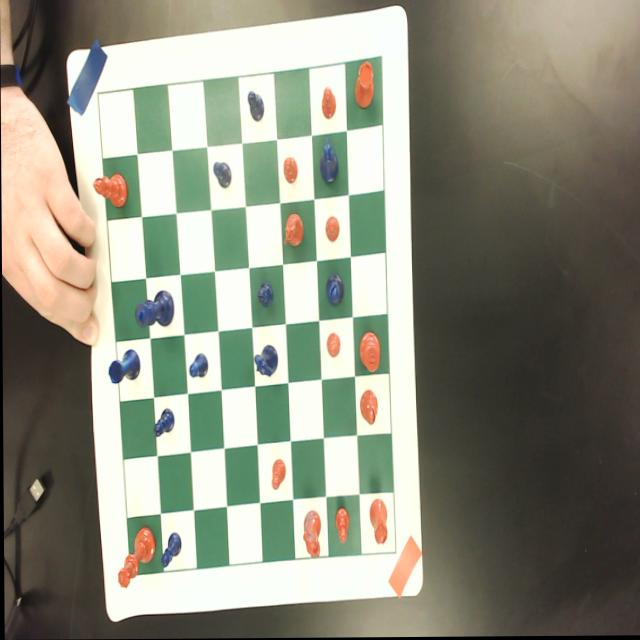B: (325, 273, 344, 309)
K: (135, 290, 175, 329)
N: (253, 343, 278, 378), (320, 138, 338, 185)
P: (159, 532, 181, 571), (153, 408, 175, 439), (212, 158, 232, 191), (247, 90, 265, 124), (188, 353, 208, 381), (257, 279, 273, 311)
R: (106, 348, 140, 386)
b: (92, 174, 127, 208), (359, 391, 377, 427)
k: (358, 331, 380, 375)
n: (301, 510, 321, 562), (282, 211, 306, 249)
p: (320, 87, 338, 122), (268, 458, 286, 491), (334, 506, 349, 545), (283, 157, 298, 183), (326, 333, 341, 359), (325, 216, 339, 243)
q: (117, 526, 155, 589)
r: (354, 62, 375, 109), (368, 499, 387, 547)
